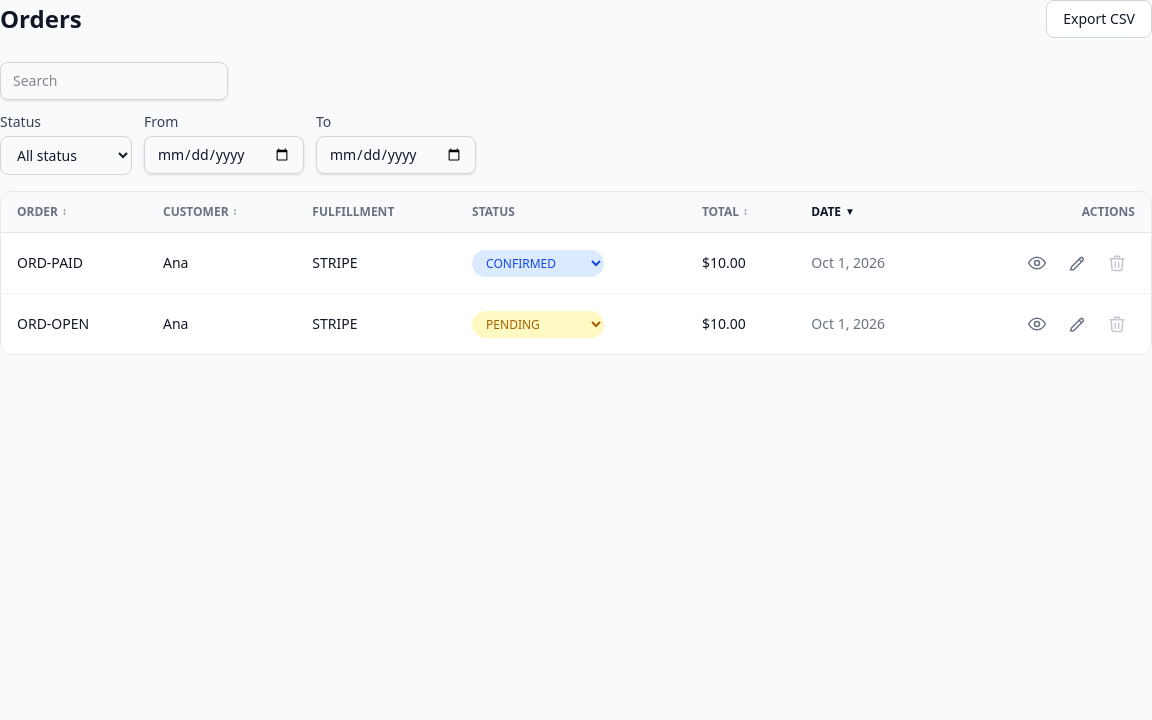
permissions: a collaborator (STAFF) versus the owner › tells the owner that cancelling a paid card order refunds it
expect the text "ORD-PAID" is shown: met, box x1=1 y1=232 x2=147 y2=294
Select "CANCELLED" in the dropdown named "Status of order ORD-PAID" at (538, 263), box x1=472 y1=250 x2=604 y2=276
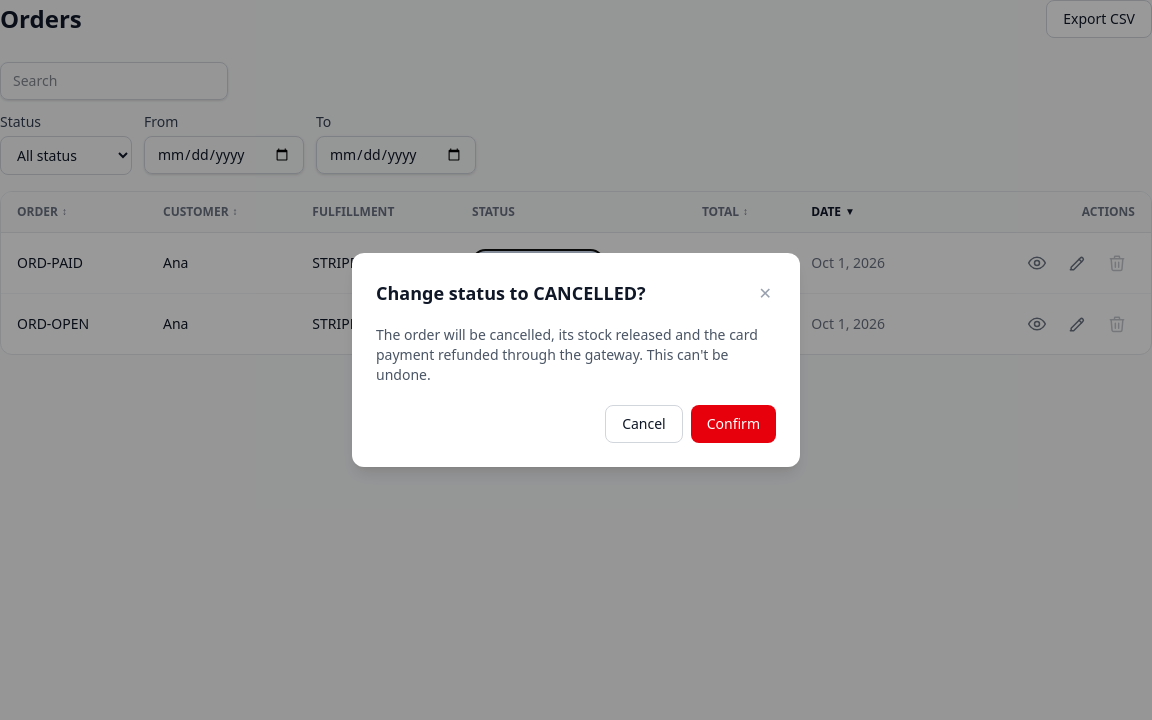
expect the text "card payment refunded through the gateway" is shown: met, box x1=376 y1=325 x2=758 y2=384
